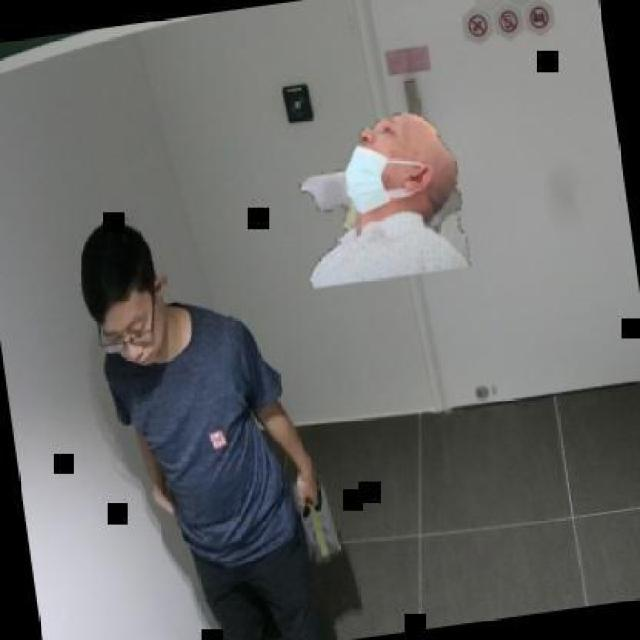hairnet: (347, 96, 410, 216)
